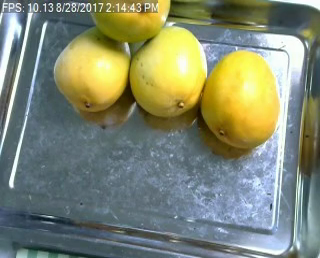Mango: (201, 49, 282, 146), (52, 21, 131, 111), (128, 26, 205, 116), (88, 0, 169, 42)
